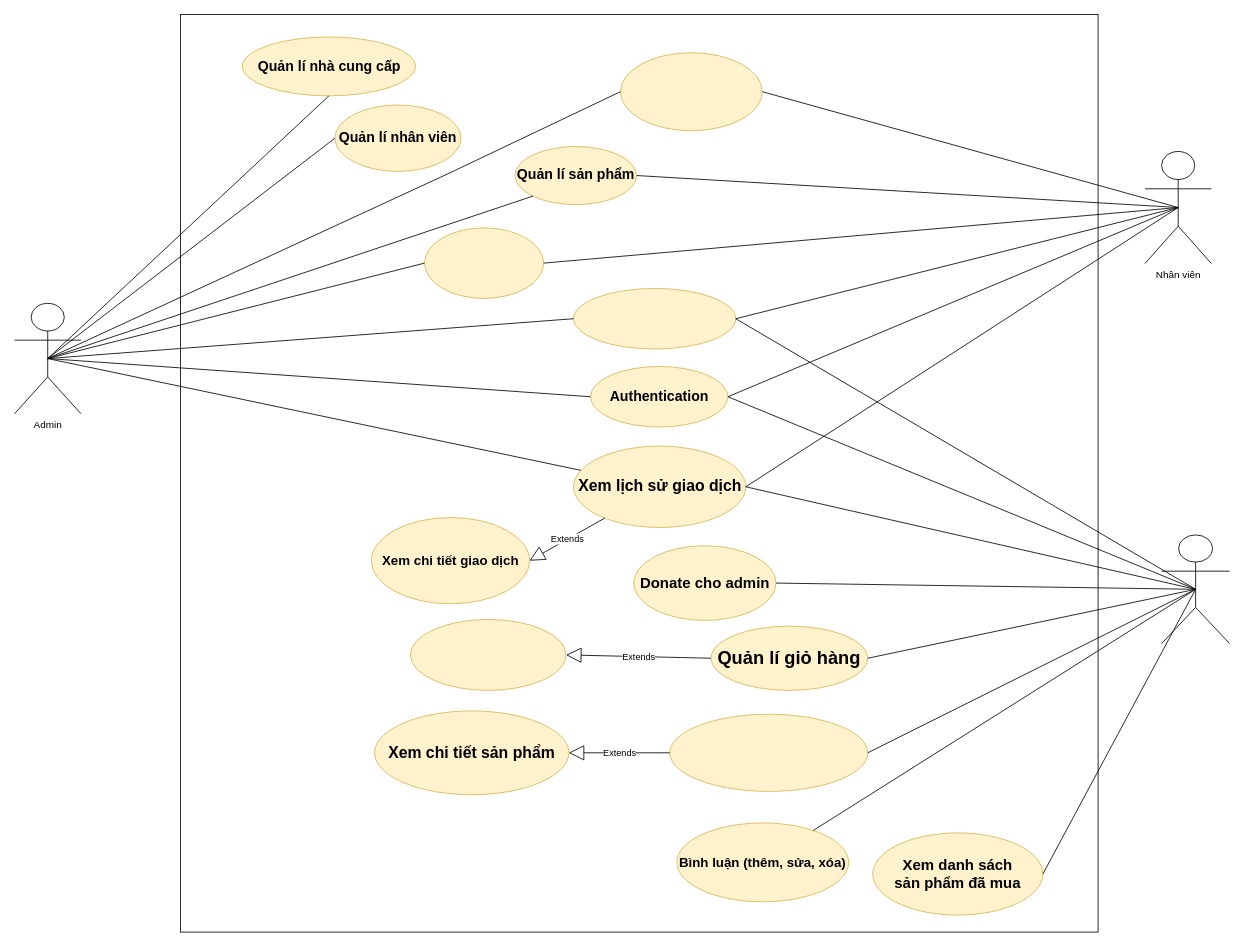
The diagram is 1244 pixels wide and 947 high, and some of its shapes have lost their labels. The shapes that lost their labels are listed below. From the top down, each one's centre as x and y in pixels, then its label:
(691,91): Xuất hóa đơn đỏ
(484,262): Thống kê
(654,318): Quản lí tài khoản cá nhân
(1195,589): Khách hàng
(488,654): Thanh toán
(768,752): Xem danh sách sản phẩm
